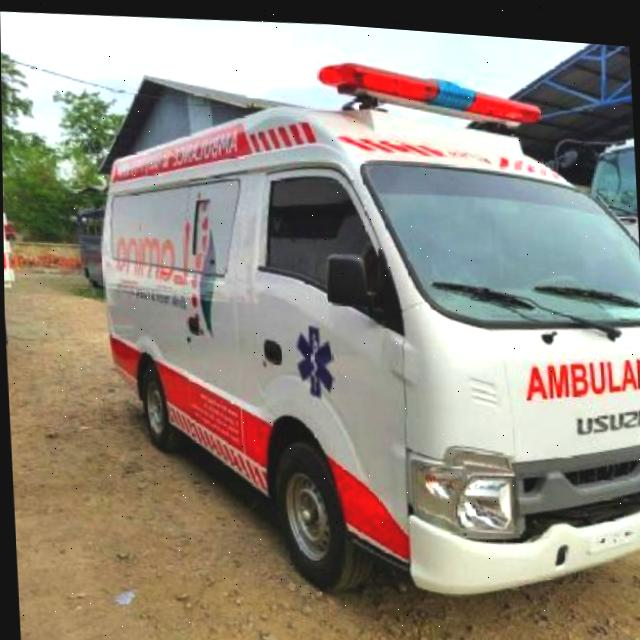emergency: (87, 30, 640, 615)
